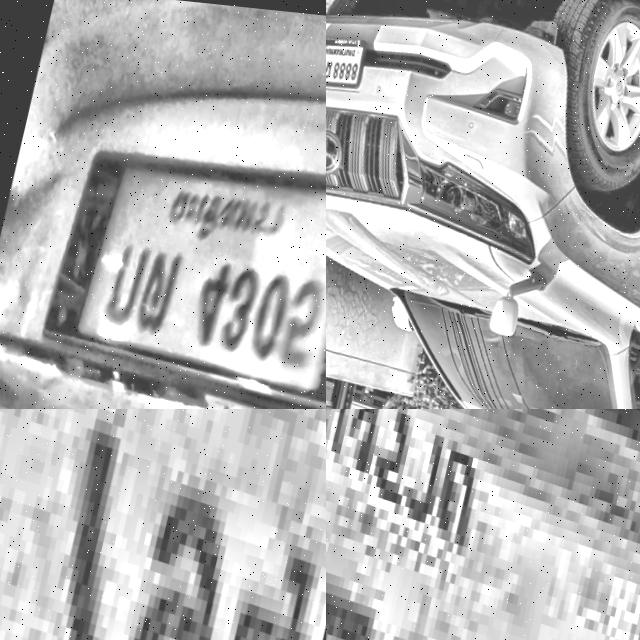license-plate: (0, 409, 326, 640), (326, 409, 640, 640), (75, 158, 326, 383), (326, 21, 369, 101)
